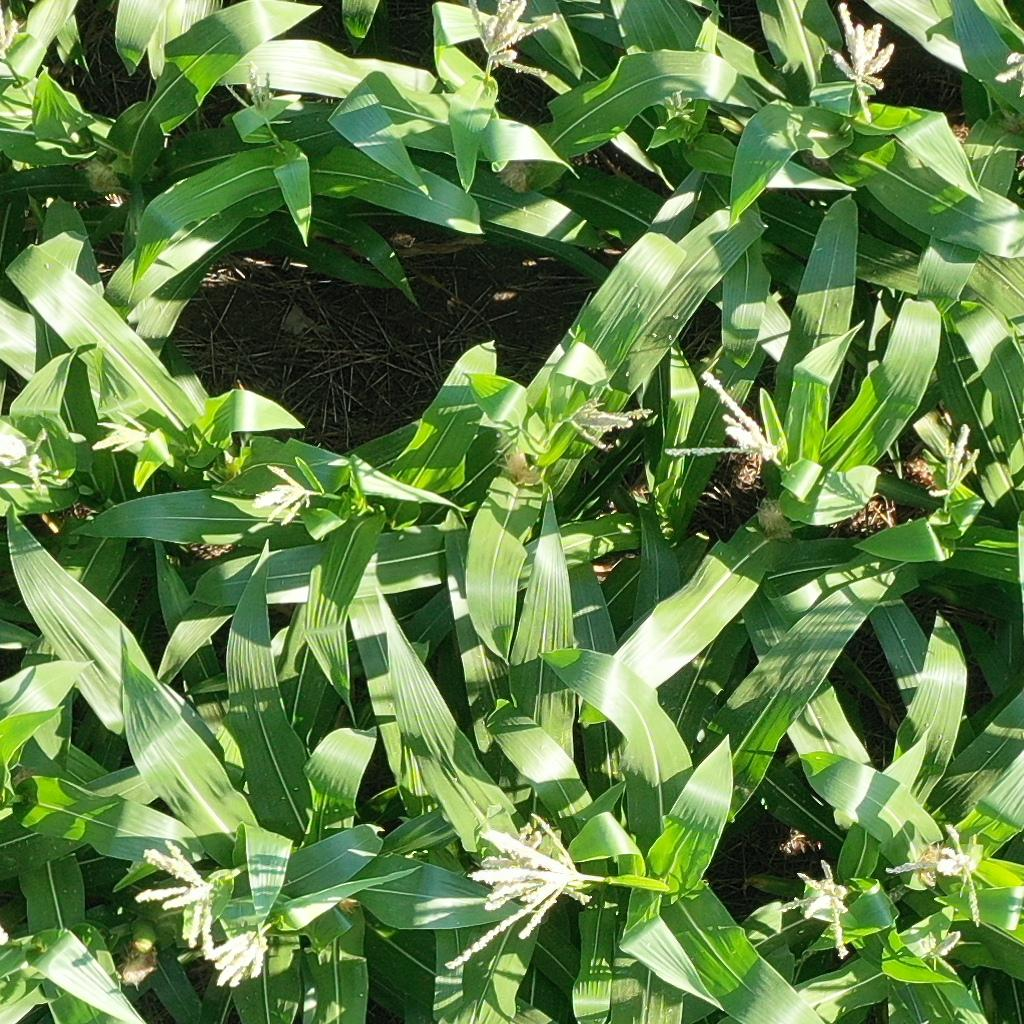Tassel: (443, 811, 596, 972), (661, 366, 790, 475), (131, 838, 224, 960), (882, 820, 991, 918), (827, 1, 895, 122), (779, 856, 859, 958), (464, 1, 560, 79), (562, 393, 656, 458), (922, 418, 985, 510), (204, 930, 280, 987), (251, 462, 311, 529), (219, 60, 281, 117), (6, 424, 56, 493), (90, 413, 156, 455), (925, 928, 965, 975), (991, 48, 1024, 97), (1, 5, 21, 60), (663, 88, 697, 118)
